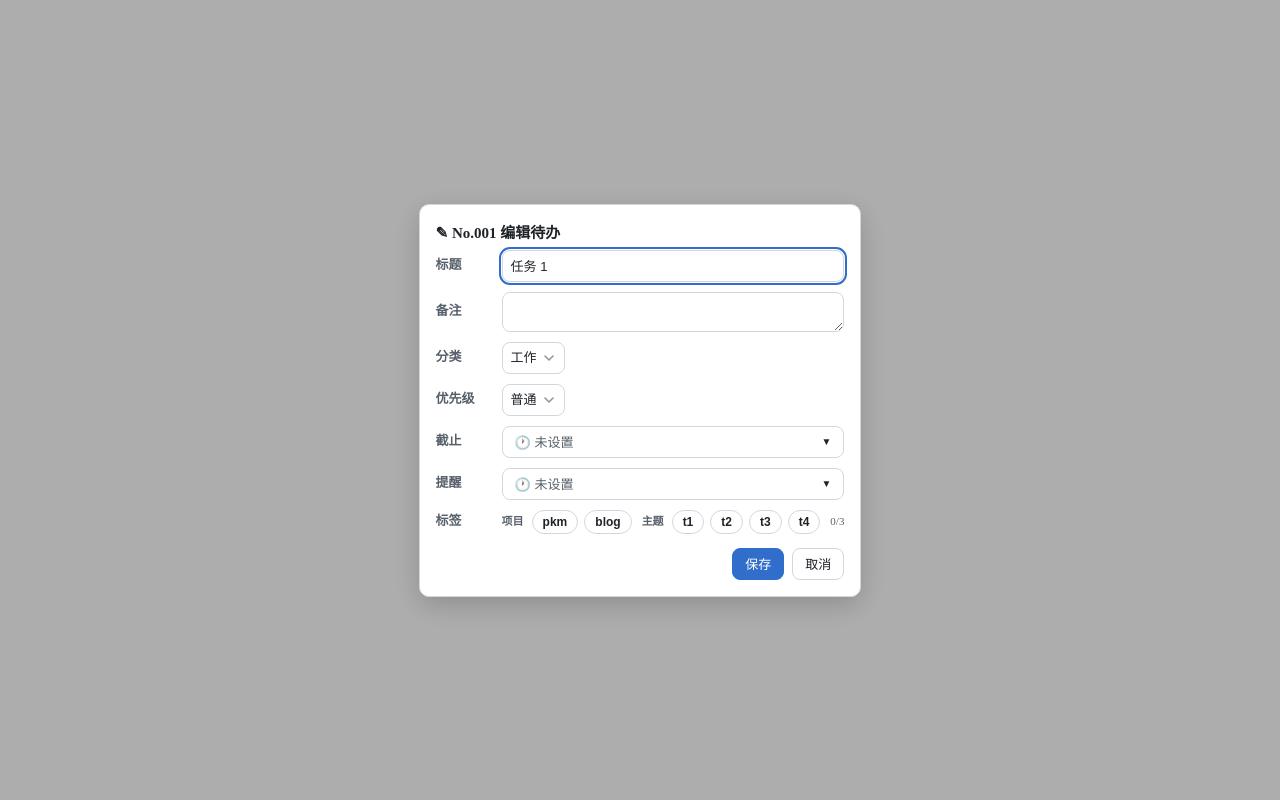
TaskEditModal 标签维度规则 › 总数上限 3：满额后未选中 chips 禁用，计数 3/3；取消选中可再腾位
The image size is (1280, 800).
Click the button "t1". click: (688, 522)
box: [672,510,704,534]
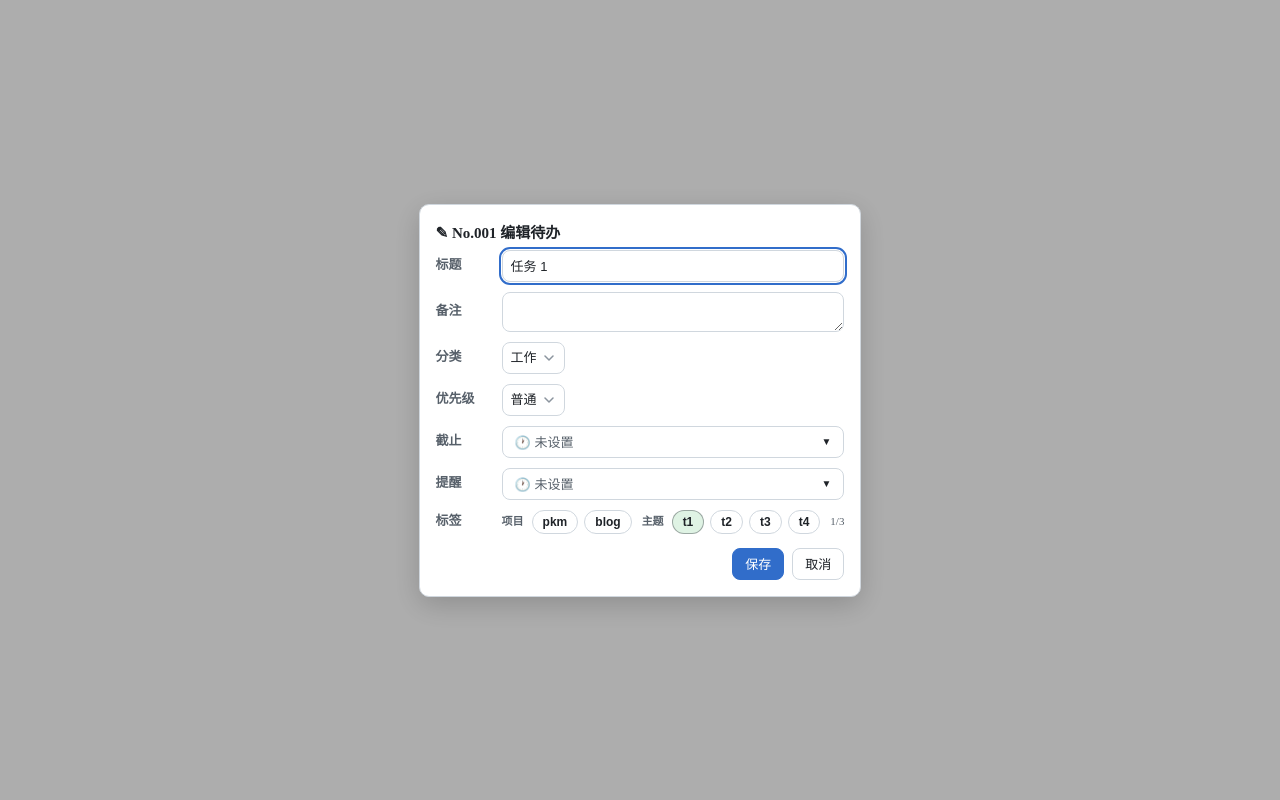
Click the button "t2". click: (727, 522)
box: [710,510,743,534]
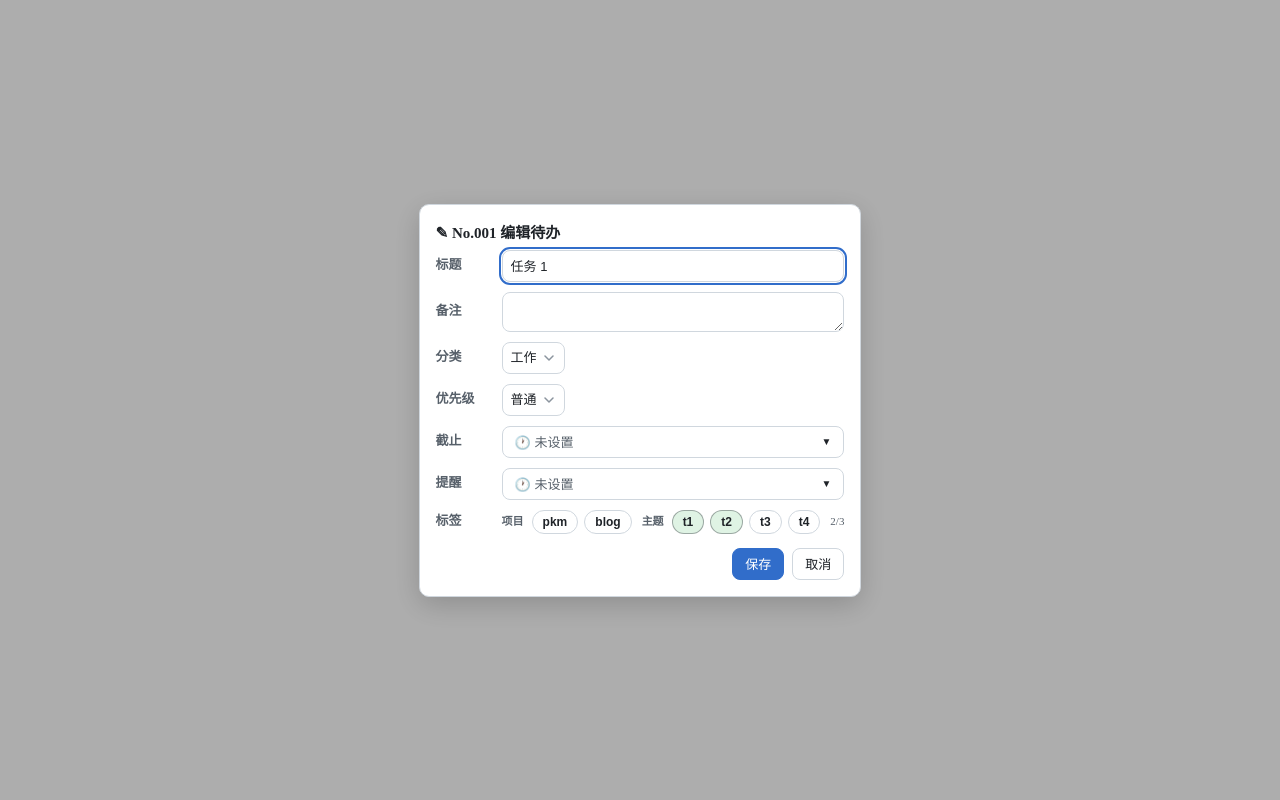
Click the button "t3". click: (765, 522)
box: [749,510,782,534]
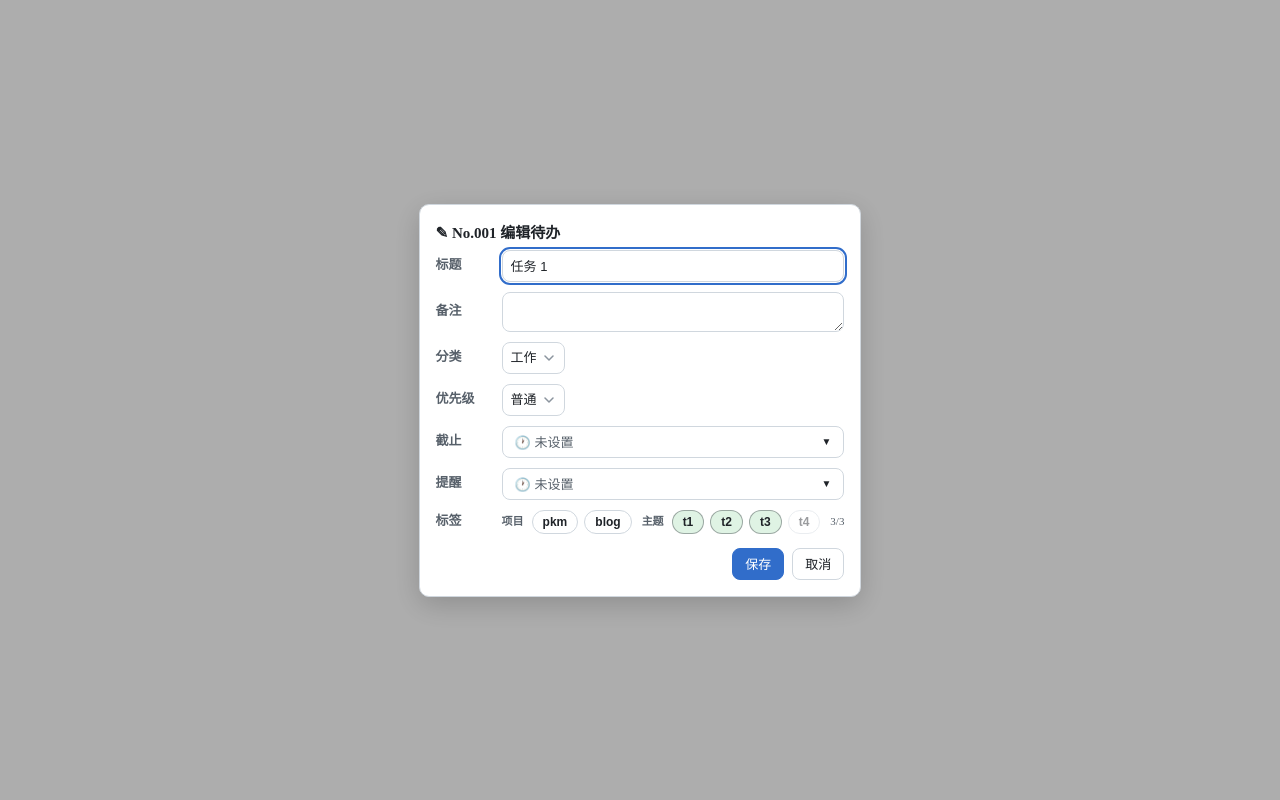
Result: the text "3/3" is shown at [830,513,844,530]
Result: the button "t4" is disabled at [788,510,820,534]
Click the button "t2". click: (727, 522)
box: [710,510,743,534]
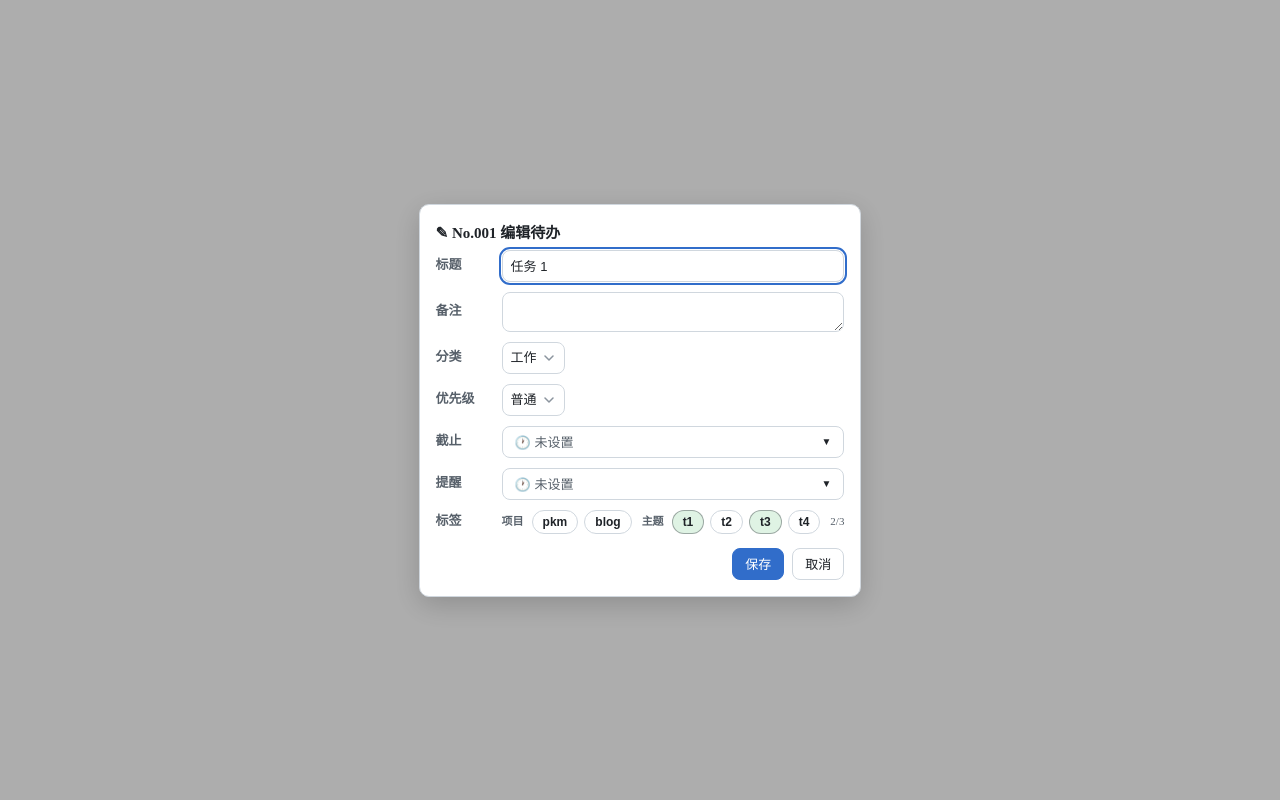
Result: the text "2/3" is shown at [830,513,844,530]
Result: the button "t4" is enabled at [788,510,820,534]
